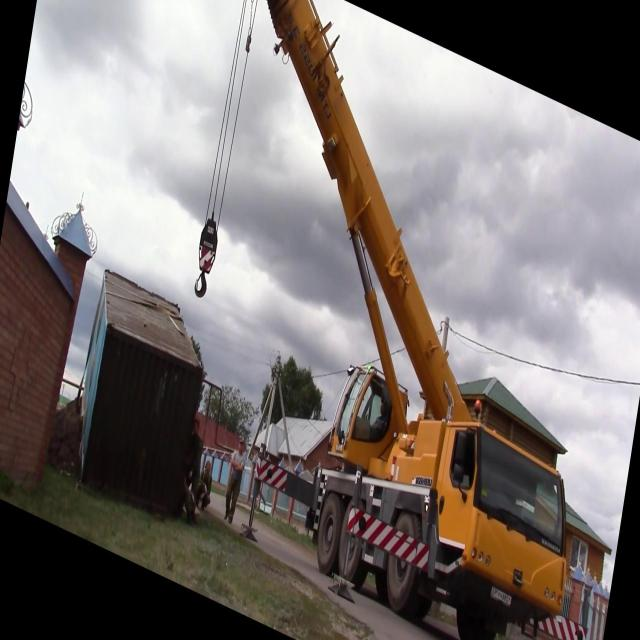crane: (157, 0, 640, 640)
